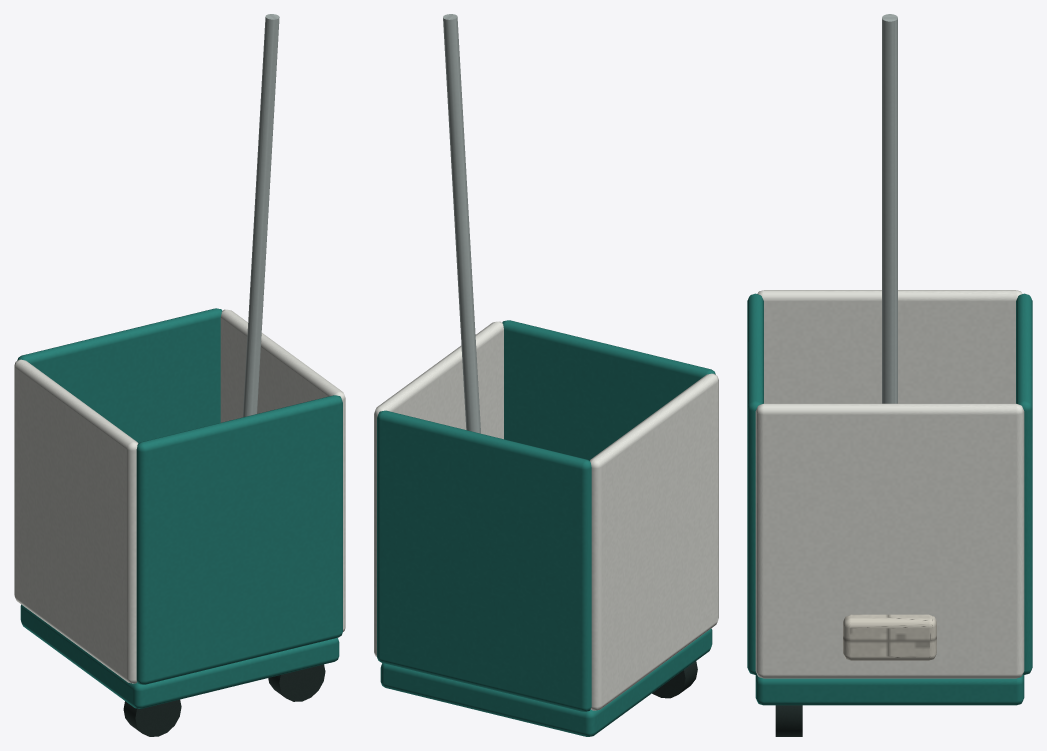
Rendered from detail-mop-bucket-0.glb.
3 renders of one model, left to right at view 1: azimuth 30°, elevation 25°; view 2: azimuth 150°, elevation 25°; view 3: azimuth 270°, elevation 25°, orthographic. The views are drawn at different scales.
Parts seen in each view (by area): view 1: bucket_wall (×4), bucket_base, mop_handle, castor (×2); view 2: bucket_wall (×4), bucket_base, mop_handle, castor; view 3: bucket_wall (×4), bucket_base, mop_handle, mop_head, castor.
Boxes of the visible parts, box(x1,y1,x2,y2) form: bucket_wall (×4): box(14, 308, 345, 684); bucket_base: box(20, 604, 339, 708); mop_handle: box(243, 14, 279, 417); castor (×2): box(123, 664, 325, 736); bucket_wall (×4): box(374, 320, 718, 711); bucket_base: box(380, 628, 712, 736); mop_handle: box(443, 14, 480, 433); castor: box(652, 661, 697, 698); bucket_wall (×4): box(747, 290, 1032, 678); bucket_base: box(755, 675, 1024, 705); mop_handle: box(882, 14, 897, 403); mop_head: box(843, 614, 936, 660); castor: box(775, 705, 802, 736).
Bounding box in the file's own units: 0.4475 × 1.2 × 0.425.
Materials: 5 (5 with a texture image).
